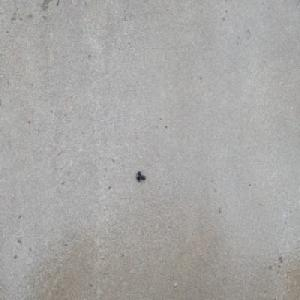BoltWasher: (135, 170, 146, 182)
